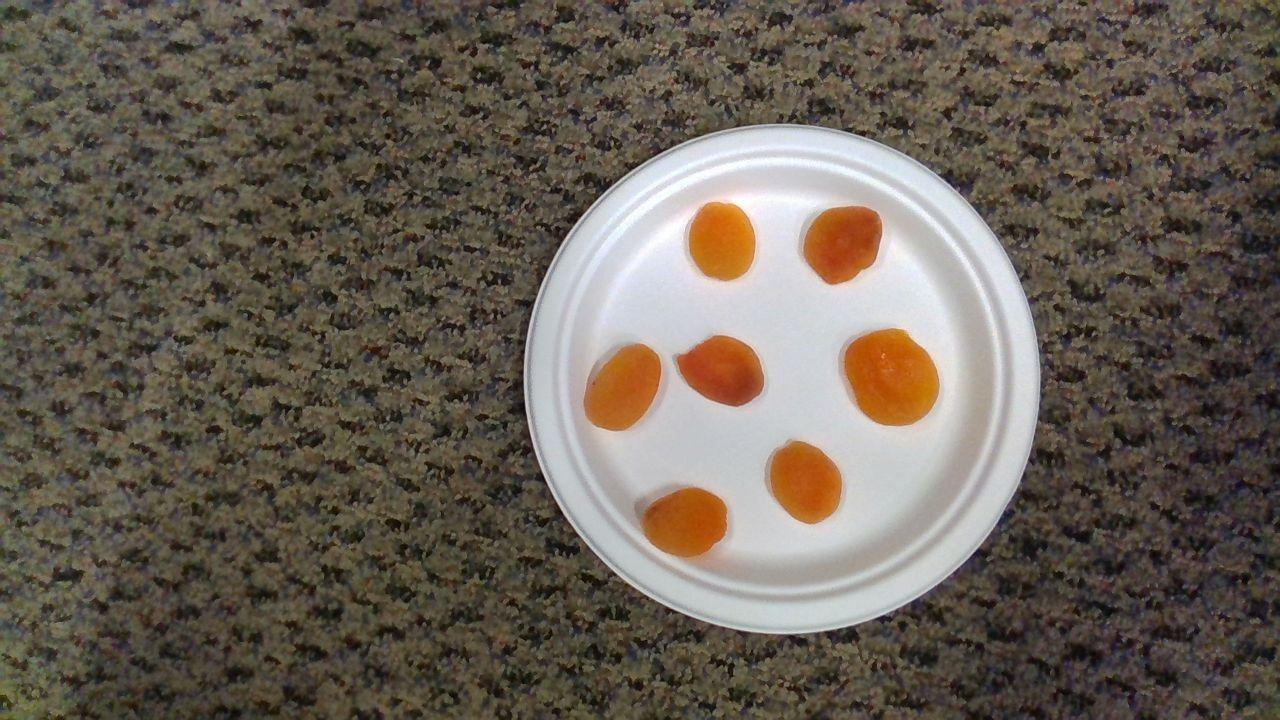apricot: (845, 328, 940, 426), (584, 344, 661, 430), (678, 335, 764, 407), (803, 207, 882, 284), (643, 489, 728, 558), (771, 442, 840, 525), (690, 202, 756, 280)
